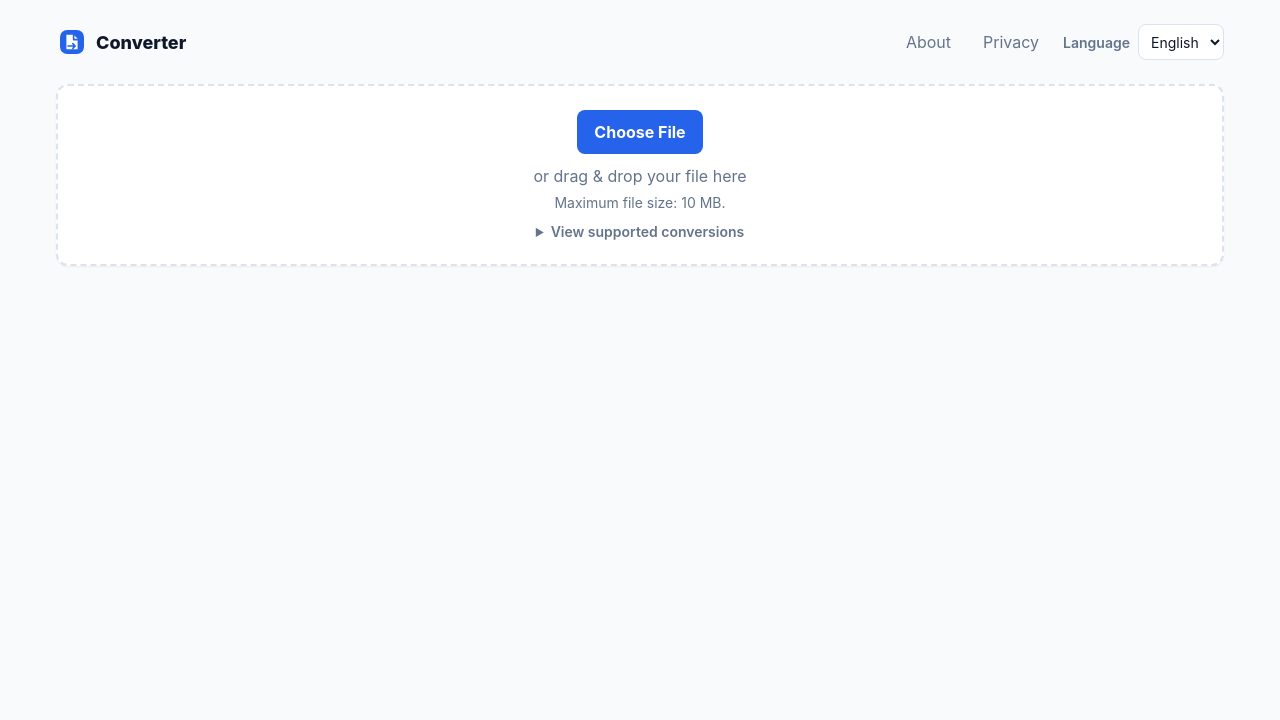
Scenario: application routes › navigates between pages and marks the active link
Click the link "About": (928, 42) [906,32,951,52]
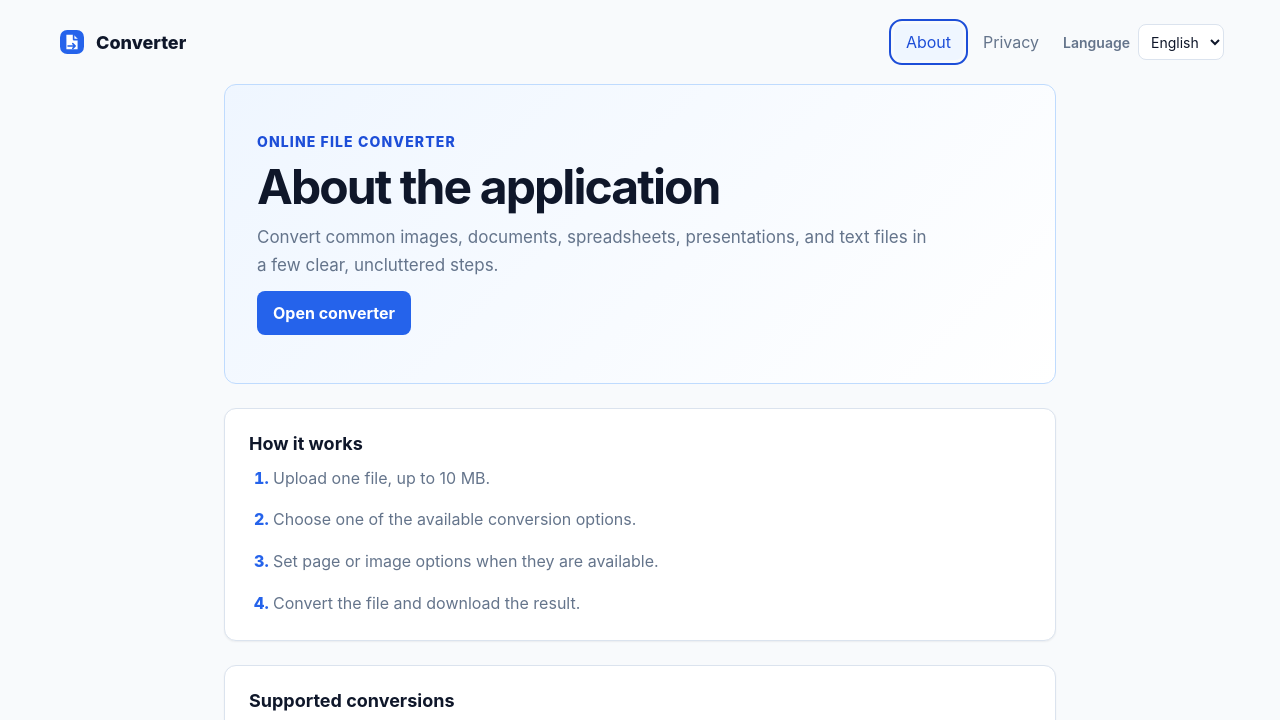
Result: the heading "About the application" is shown at [257,157,720,216]
